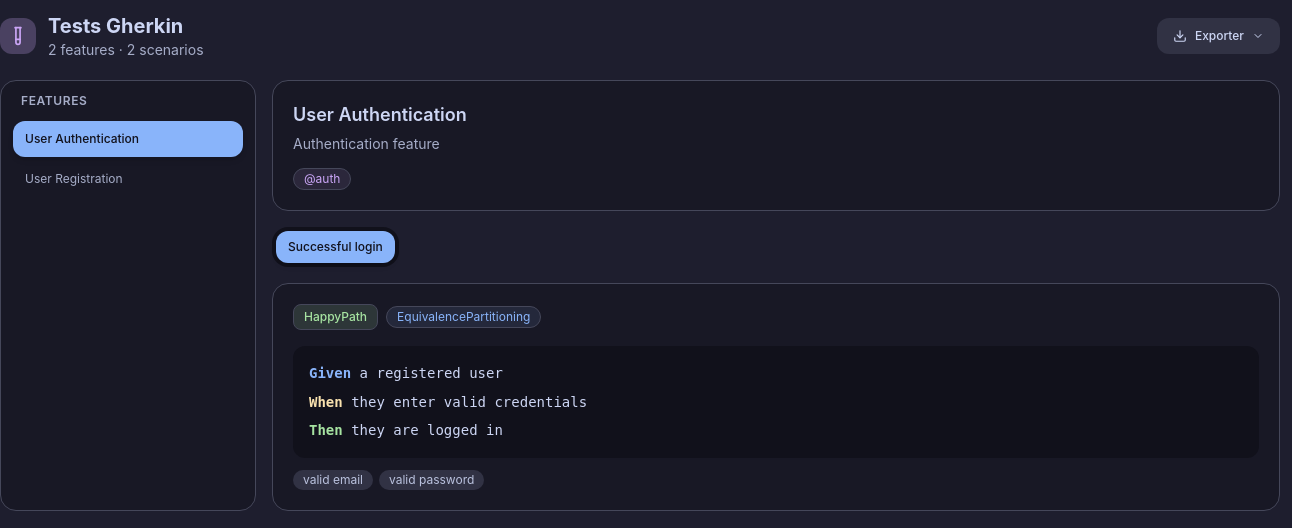
Scenario: GherkinPage › can select a different feature
Click the button with test id "gherkin-feature-1": (128,179) [13,161,243,197]
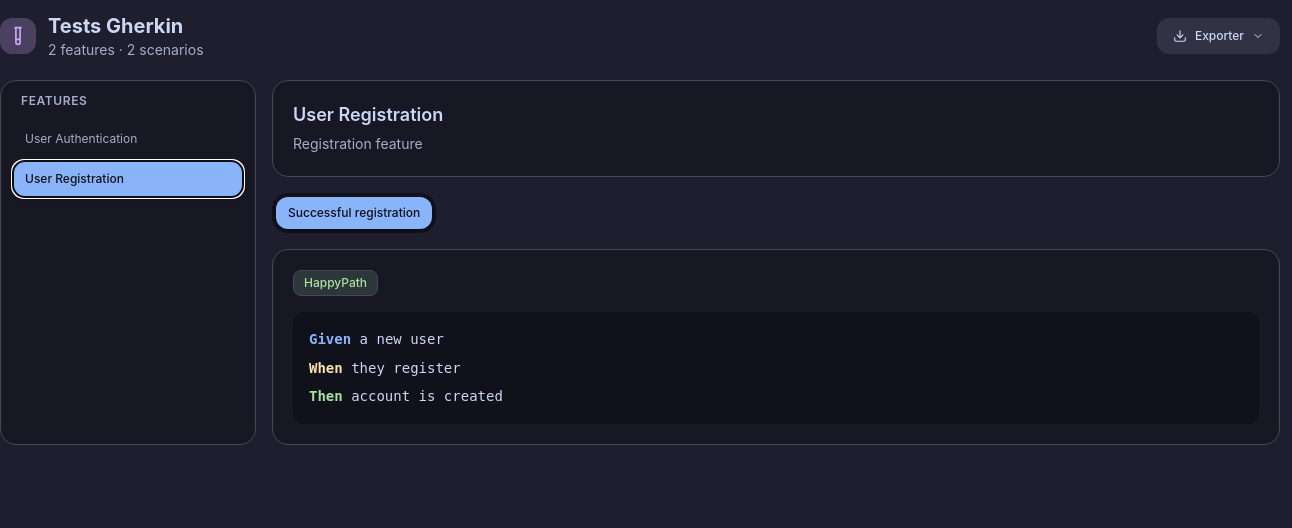
Result: the text "a new user" is shown at [360,331,444,347]
